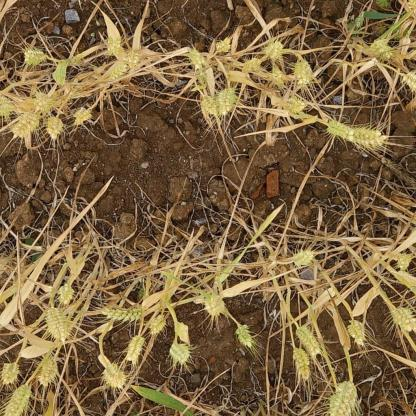whd: (376, 152, 416, 190), (328, 380, 358, 416), (2, 384, 33, 416), (44, 307, 70, 343), (11, 110, 41, 139), (296, 324, 322, 356), (99, 304, 144, 322), (36, 355, 58, 388), (391, 306, 416, 335), (102, 362, 127, 390), (354, 127, 388, 147), (326, 118, 354, 142), (292, 346, 311, 380), (125, 334, 145, 366), (216, 88, 237, 117), (347, 319, 366, 347), (169, 341, 190, 366), (204, 295, 226, 318), (368, 40, 393, 60), (0, 362, 20, 386), (235, 324, 254, 349), (294, 60, 312, 86), (46, 115, 63, 141), (262, 40, 283, 61), (292, 248, 316, 266), (400, 68, 416, 94), (57, 282, 75, 305), (23, 48, 46, 66), (108, 63, 131, 81), (186, 47, 204, 70), (200, 94, 216, 118), (104, 36, 123, 56), (149, 313, 166, 335), (396, 252, 414, 272), (242, 56, 262, 74), (73, 107, 91, 126), (287, 97, 307, 114), (269, 68, 286, 88), (34, 93, 51, 111), (0, 96, 16, 112), (215, 39, 232, 54), (124, 50, 140, 65)
